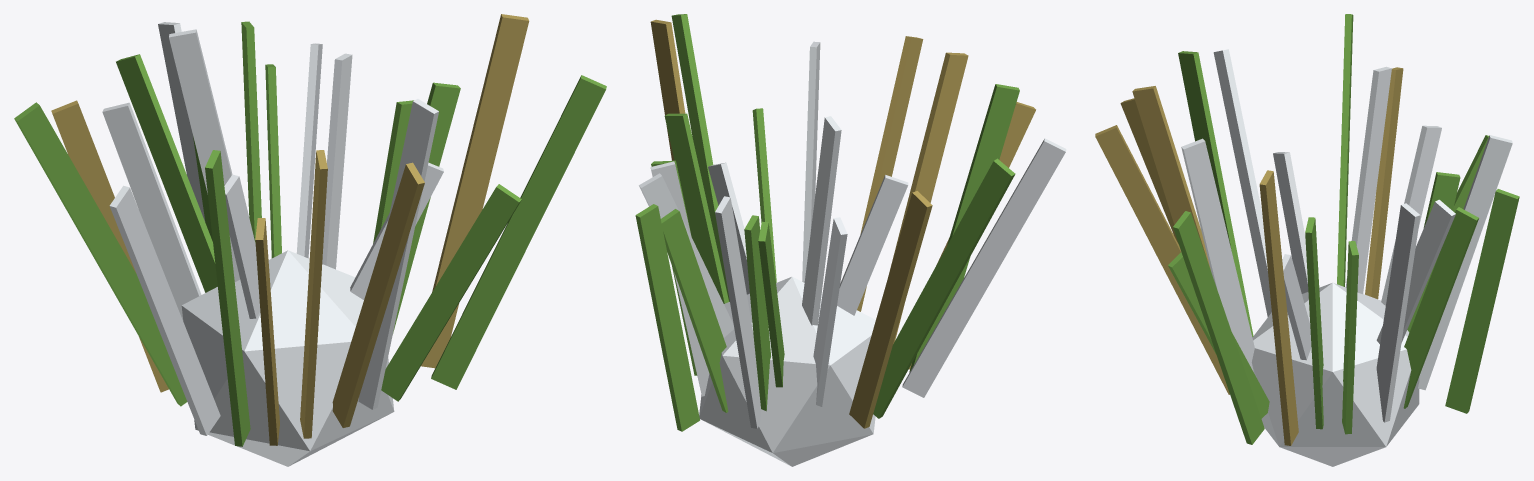
Rendered from buisson_toundra_3.glb.
The picture shows the model from 3 angles, left to right: view 1: azimuth 30°, elevation 25°; view 2: azimuth 150°, elevation 25°; view 3: azimuth 270°, elevation 25°; orthographic projection. The views are drawn at different scales.
Visible parts, largest first — view 1: herbe_neige.002, herbe_feuille_claire.004, herbe_herbe_seche.004; view 2: herbe_neige.002, herbe_feuille_claire.004, herbe_herbe_seche.004; view 3: herbe_neige.002, herbe_feuille_claire.004, herbe_herbe_seche.004.
Part boxes in pixels (x1,y1,x2,y2): herbe_neige.002: (102, 22, 443, 466); herbe_feuille_claire.004: (14, 21, 606, 446); herbe_herbe_seche.004: (51, 14, 529, 445); herbe_neige.002: (639, 41, 1066, 466); herbe_feuille_claire.004: (635, 14, 1019, 431); herbe_herbe_seche.004: (650, 19, 1035, 428); herbe_neige.002: (1181, 49, 1512, 466); herbe_feuille_claire.004: (1168, 14, 1519, 444); herbe_herbe_seche.004: (1095, 67, 1403, 445).
Bounding box in the file's own units: 0.7104 × 0.6019 × 0.6263.
